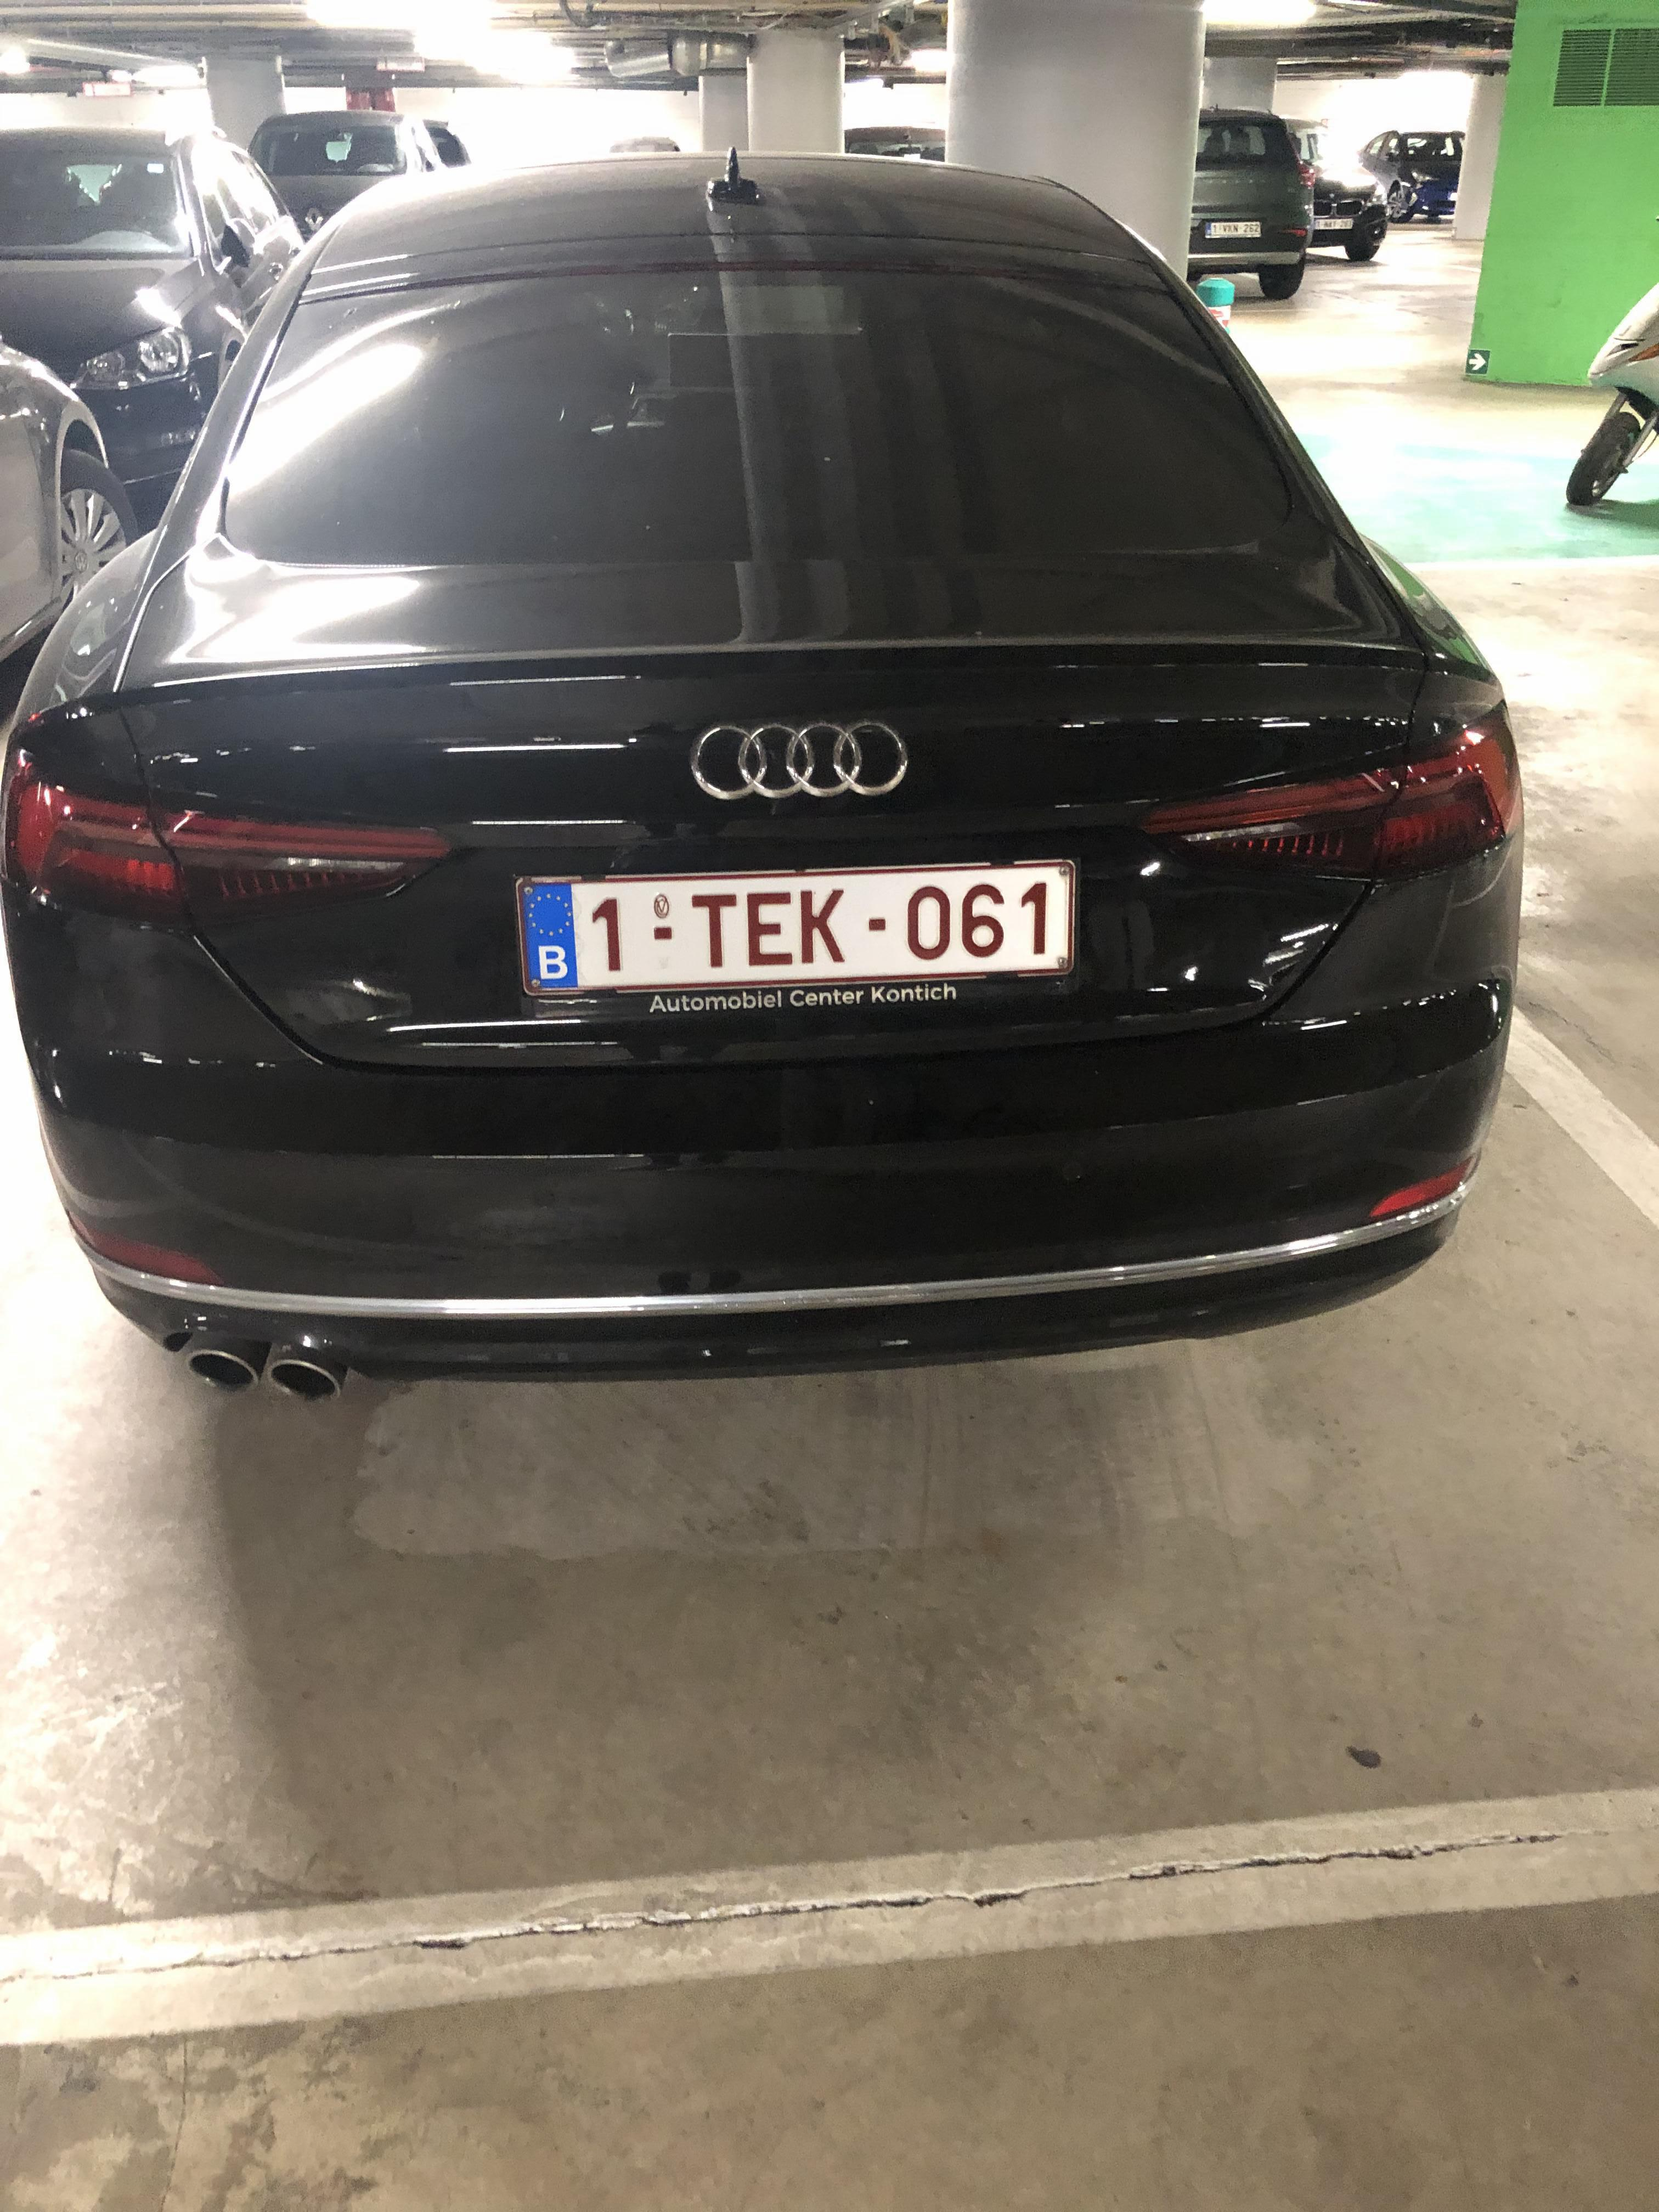plate: (485, 851, 1098, 1004)
